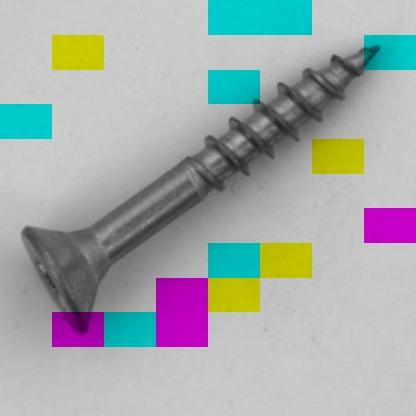metal: (17, 42, 379, 336)
